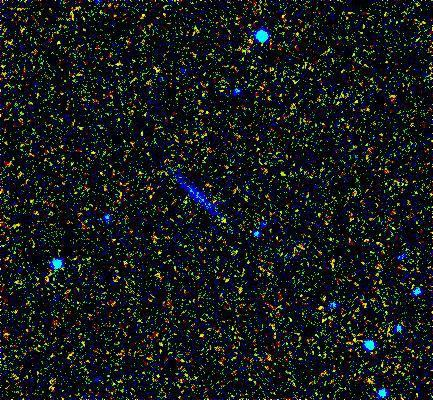star: (206, 204, 236, 234)
